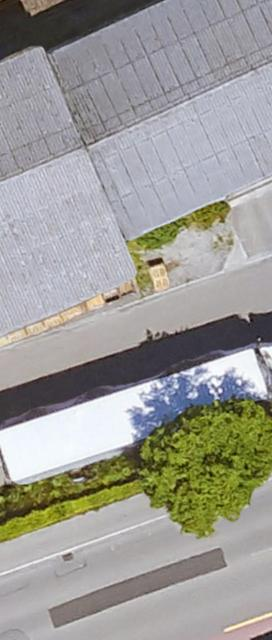tree: (137, 400, 272, 539)
